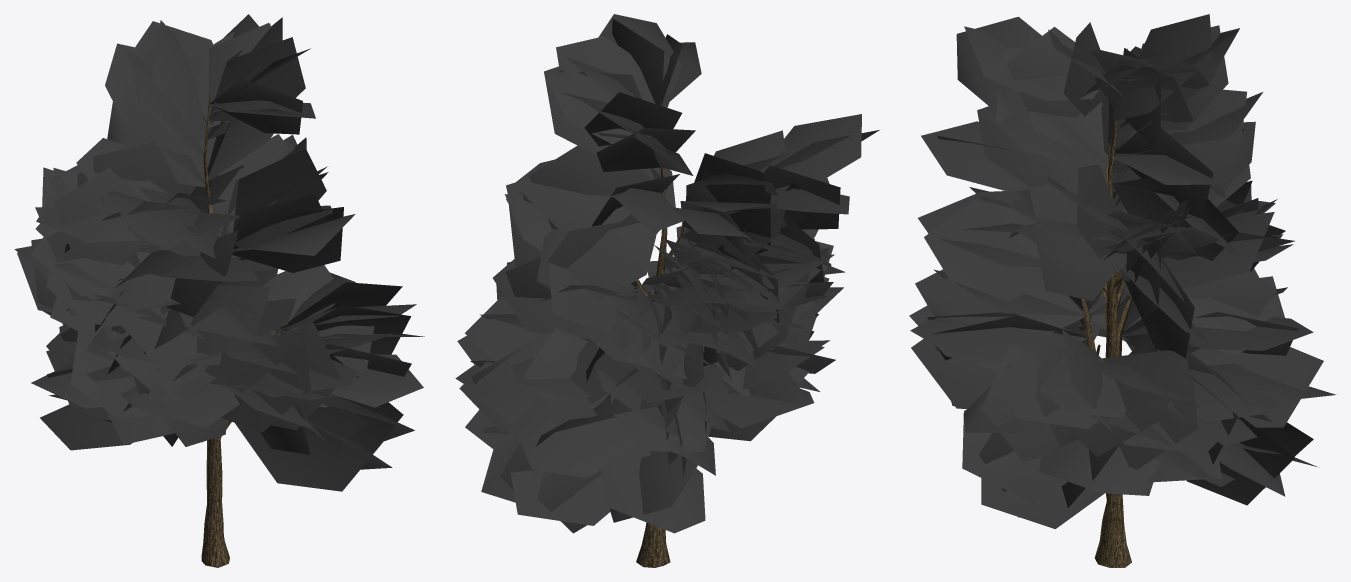
File: SM_Tree04.FBX
3 views of the same model, side by side, from view 1: azimuth 30°, elevation 25°; view 2: azimuth 150°, elevation 25°; view 3: azimuth 270°, elevation 25° (orthographic). The views are drawn at different scales.
Visible parts, largest first — view 1: SM_Tree04; view 2: SM_Tree04; view 3: SM_Tree04.
Part boxes in pixels (box(x1,y1,x2,y2)): SM_Tree04: box(14, 14, 424, 567); SM_Tree04: box(455, 14, 879, 567); SM_Tree04: box(909, 14, 1336, 567).
Size of what is drawn, in the model's own units: 595 by 561 by 802.
